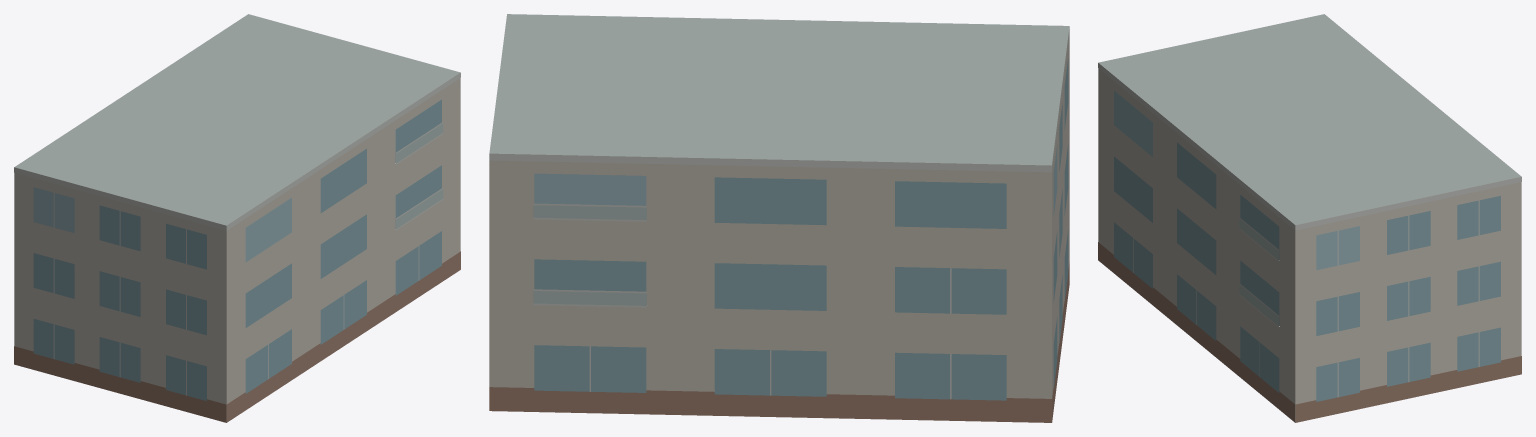
The model's file is survey-upis-32841265.glb.
The picture shows the model from 3 angles, left to right: view 1: azimuth 30°, elevation 25°; view 2: azimuth 150°, elevation 25°; view 3: azimuth 270°, elevation 25°; orthographic projection. The views are drawn at different scales.
Visible parts, largest first — view 1: survey-upis-32841265.tmp; view 2: survey-upis-32841265.tmp; view 3: survey-upis-32841265.tmp.
Boxes of the visible parts, box(x1,y1,x2,y2) form: survey-upis-32841265.tmp: box(14, 14, 460, 422); survey-upis-32841265.tmp: box(489, 14, 1069, 422); survey-upis-32841265.tmp: box(1098, 14, 1521, 422).
Size of the model in its own units: 20.98 by 9.15 by 17.79.
